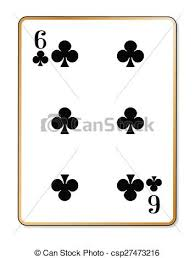six of hearts: (17, 16, 176, 225)
